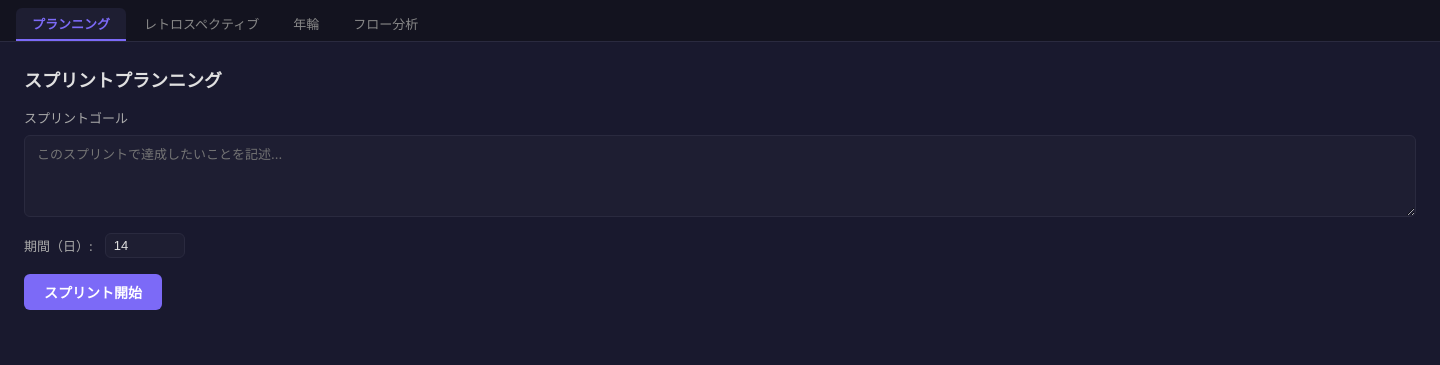
Scenario: SprintScreen › 年輪 タブ: sprintHistory が空でプレースホルダーデータを表示
This screenshot has width=1440, height=365.
Click the button "年輪". click: coordinates (306, 24)
box: x1=277 y1=8 x2=335 y2=41
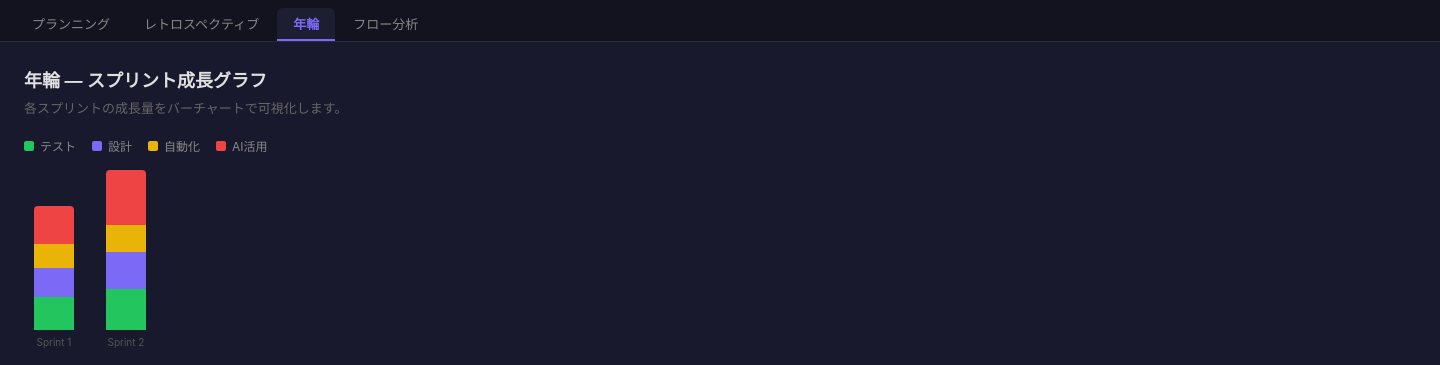
Expected: the heading "年輪 — スプリント成長グラフ" is shown, x1=24 y1=70 x2=267 y2=91
Expected: the text "Sprint 1" is shown, x1=36 y1=336 x2=71 y2=348
